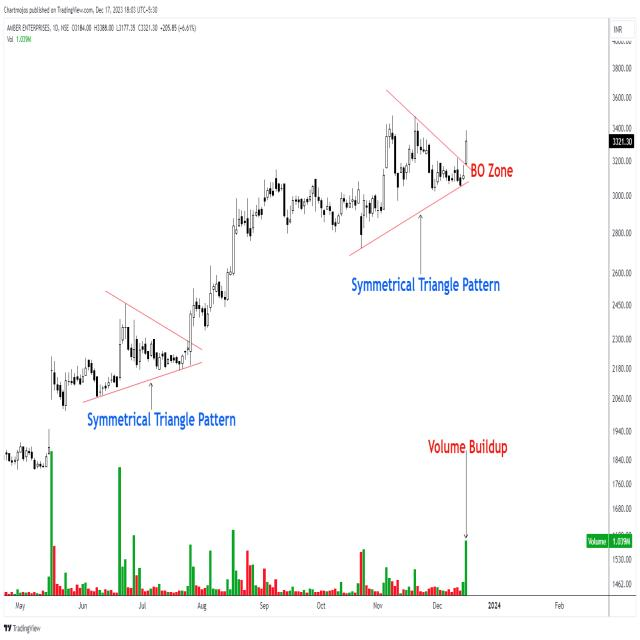Triangle: (345, 65, 471, 255), (46, 274, 215, 413)
